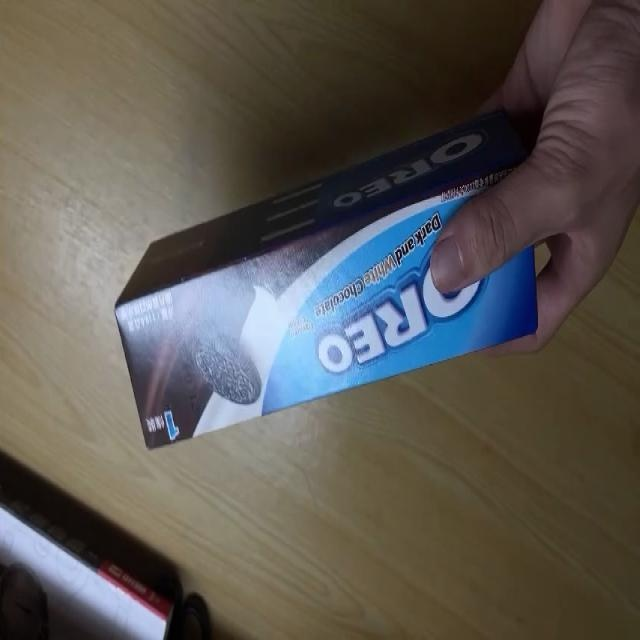Oreo: (115, 124, 538, 452)
